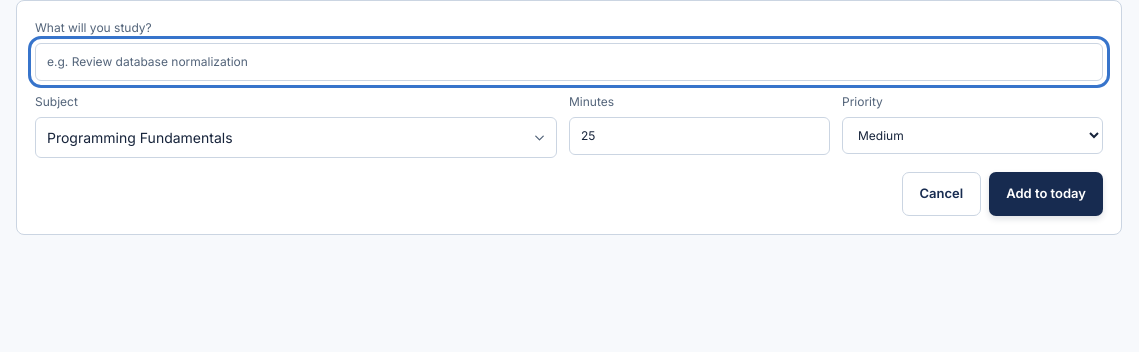
it: offers creation for no results and makes the footer reachable by keyboard
The width and height of the screenshot is (1139, 352).
Replace the text in the dropdown labelled "Subject" with "A completely new topic" at [296, 138], box [35, 117, 557, 158]
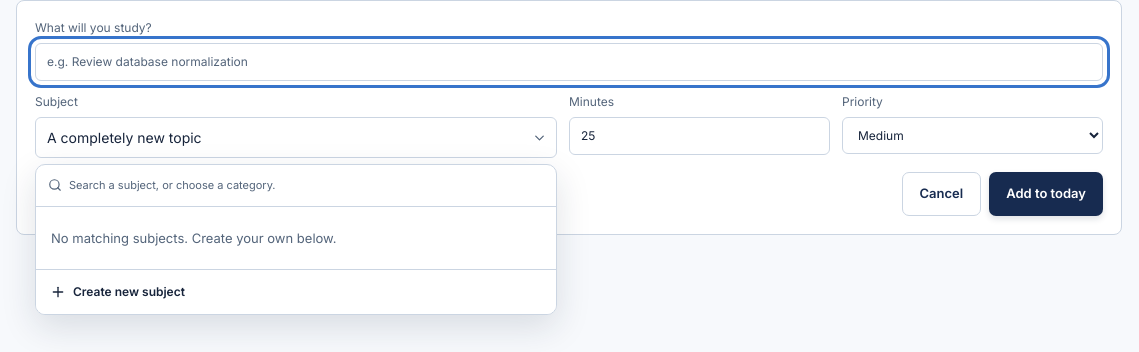
Expected: the text "No matching subjects. Create your own below." is shown, [51, 230, 336, 246]
Press Tab in the dropdown labelled "Subject", box [35, 117, 557, 158]
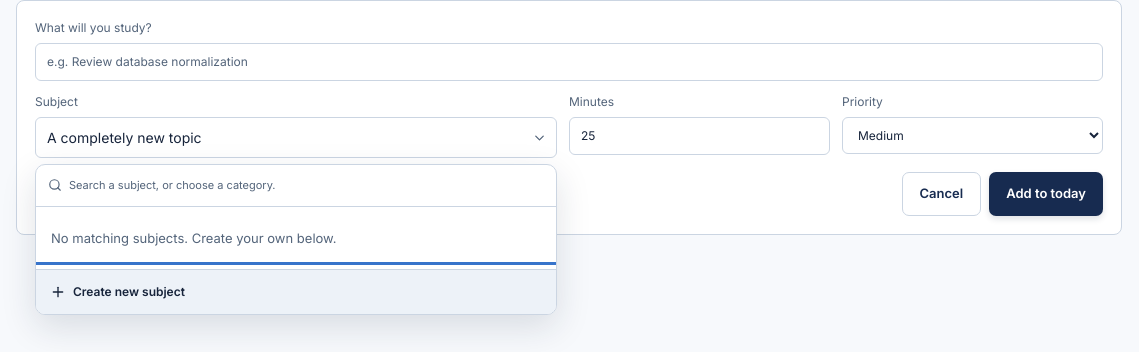
Press Tab in the button "Create new subject", box [36, 269, 556, 314]
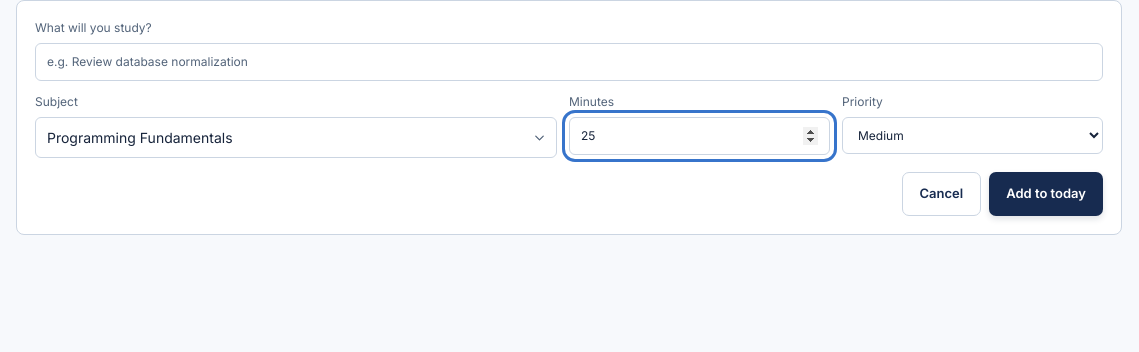
Expected: the dropdown labelled "Subject" is collapsed, [35, 117, 557, 158]
